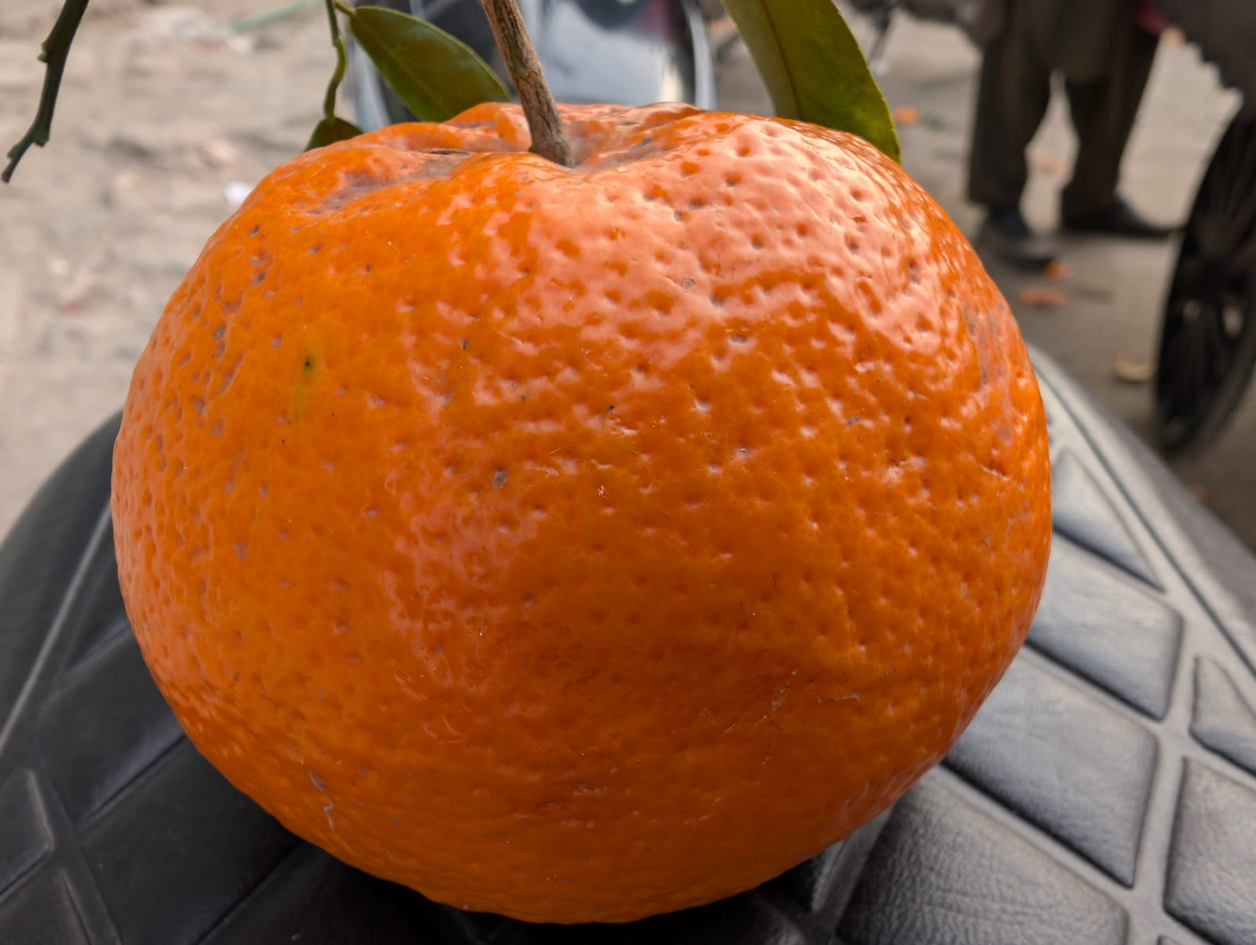orange: (192, 82, 1256, 927)
